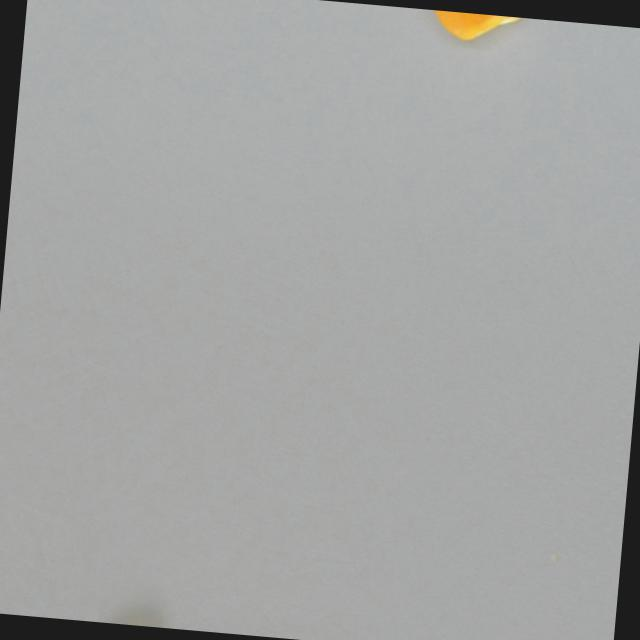no_canjicado: (427, 8, 519, 44)
